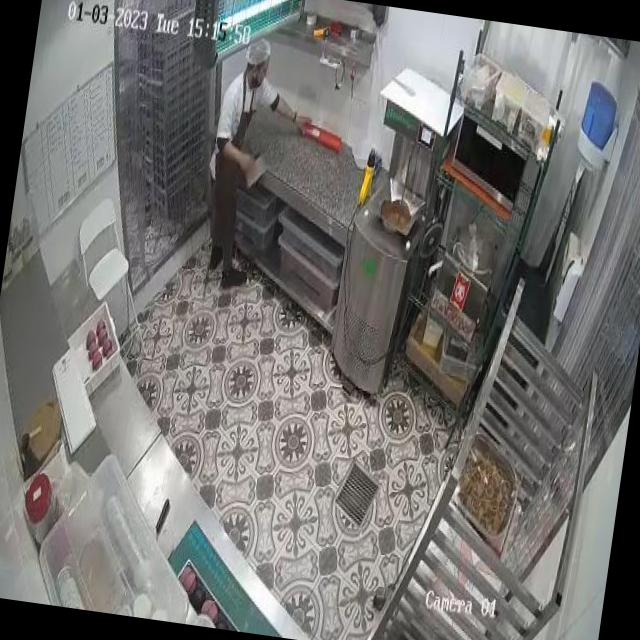hairnet: (238, 34, 274, 69)
